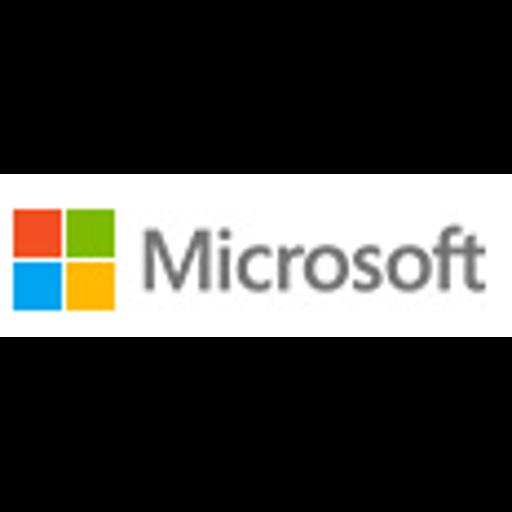Outlook: (0, 174, 512, 337)
